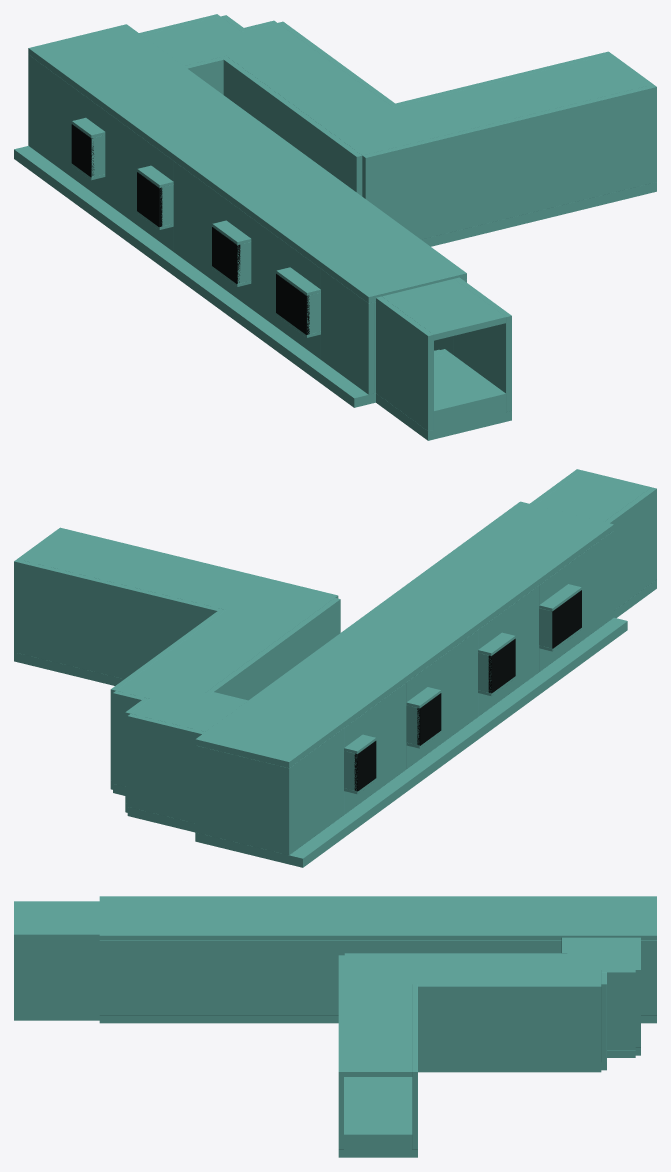
Rendered from cyan_corridor.glb.
3 renders of one model, top to bottom at view 1: azimuth 30°, elevation 25°; view 2: azimuth 150°, elevation 25°; view 3: azimuth 270°, elevation 25°, orthographic. The views are drawn at different scales.
Visible parts, largest first — view 1: Cyan_ThickCeiling, Cyan_EastDogleg_Wall_005, Cyan_EastDogleg_Roof_009, Cyan_BasinSlab, Cyan_EastDogleg_Wall_004, Cyan_SouthConnector_Wall_001, Left_FinalBay, Left_SolidBay_00, Cyan_SouthConnector_Floor_000, Cyan_SouthConnector_Roof_000, Left_SolidBay_02, Left_SolidBay_01 (+20 smaller); view 2: Cyan_ThickCeiling, Cyan_EastDogleg_Wall_008, Cyan_BasinSlab, Cyan_EastDogleg_Roof_009, North_DarkEnd, Cyan_EastDogleg_Wall_001, Left_SolidBay_00, Cyan_EastDogleg_Wall_004, Cyan_SouthConnector_Wall_001, Left_SolidBay_02, Left_FinalBay, Cyan_SouthConnector_Roof_000 (+21 smaller); view 3: Cyan_ThickCeiling, Right_SolidWall_-8.3, Cyan_EastDogleg_Wall_006, Cyan_SouthConnector_Wall_002, Cyan_EastDogleg_Roof_009, Cyan_EastDogleg_Floor_009, Cyan_SouthConnector_Roof_000, Cyan_EastDogleg_Roof_004, Cyan_EastDogleg_Roof_007, Cyan_EastDogleg_Wall_003, Cyan_BasinSlab, Cyan_EastDogleg_WallFooting_006 (+14 smaller).
Part boxes in pixels (box(x1,y1,x2,y2)): Cyan_ThickCeiling: box(28, 24, 466, 303); Cyan_EastDogleg_Wall_005: box(362, 84, 656, 239); Cyan_EastDogleg_Roof_009: box(393, 54, 653, 137); Cyan_BasinSlab: box(14, 146, 375, 407); Cyan_EastDogleg_Wall_004: box(220, 56, 362, 196); Cyan_SouthConnector_Wall_001: box(376, 296, 433, 431); Left_FinalBay: box(321, 269, 374, 394); Left_SolidBay_00: box(28, 55, 85, 187); Cyan_SouthConnector_Floor_000: box(434, 353, 505, 439); Cyan_SouthConnector_Roof_000: box(382, 279, 505, 340); Left_SolidBay_02: box(173, 161, 226, 289); Left_SolidBay_01: box(105, 111, 151, 235); Cyan_ThickCeiling: box(195, 501, 613, 767); Cyan_EastDogleg_Wall_008: box(14, 559, 225, 678); Cyan_BasinSlab: box(195, 617, 627, 867); Cyan_EastDogleg_Roof_009: box(17, 530, 265, 609); North_DarkEnd: box(201, 747, 283, 853); Cyan_EastDogleg_Wall_001: box(127, 714, 204, 823); Left_SolidBay_00: box(283, 728, 343, 854); Cyan_EastDogleg_Wall_004: box(205, 598, 340, 700); Cyan_SouthConnector_Wall_001: box(604, 487, 656, 610); Left_SolidBay_02: box(427, 630, 477, 753); Left_FinalBay: box(568, 531, 613, 650); Cyan_SouthConnector_Roof_000: box(535, 470, 651, 521); Cyan_ThickCeiling: box(99, 896, 656, 940); Right_SolidWall_-8.3: box(99, 940, 561, 1015); Cyan_EastDogleg_Wall_006: box(418, 984, 601, 1064); Cyan_SouthConnector_Wall_002: box(14, 932, 99, 1012); Cyan_EastDogleg_Roof_009: box(344, 984, 412, 1076); Cyan_EastDogleg_Floor_009: box(344, 1077, 412, 1157); Cyan_SouthConnector_Roof_000: box(14, 903, 99, 932); Cyan_EastDogleg_Roof_004: box(412, 955, 567, 969); Cyan_EastDogleg_Roof_007: box(412, 970, 567, 984); Cyan_EastDogleg_Wall_003: box(601, 970, 635, 1049); Cyan_BasinSlab: box(99, 1015, 656, 1023); Cyan_EastDogleg_WallFooting_006: box(418, 1064, 601, 1072).
Size of what is drawn, in the model's own units: 18.64 by 4.26 by 28.24.
